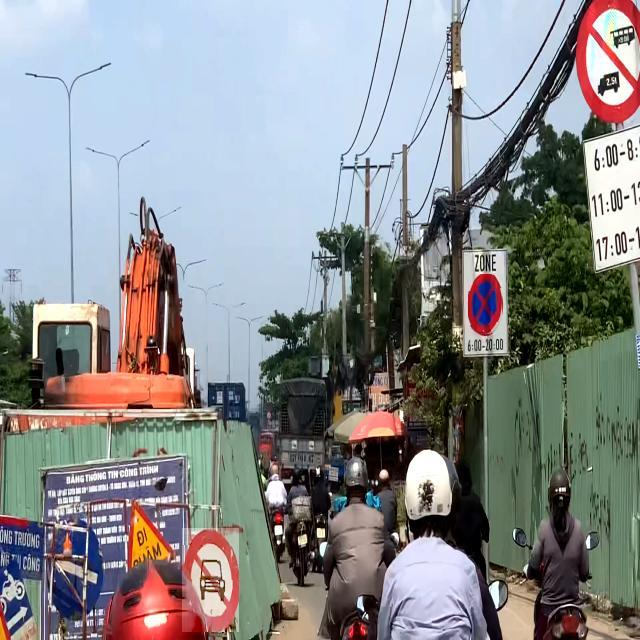P-103a: (182, 528, 239, 632)
P-130: (468, 274, 503, 336)
